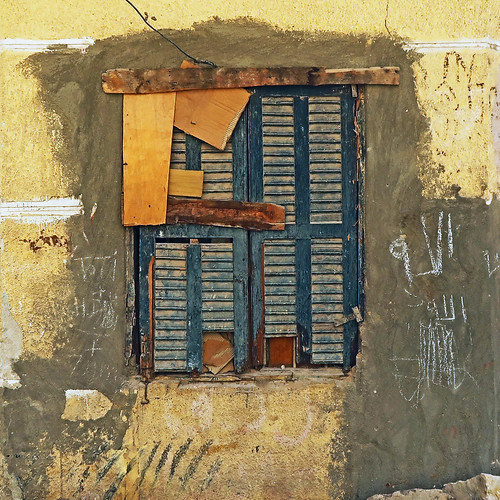wall: (1, 1, 498, 496)
window: (114, 54, 385, 387)
